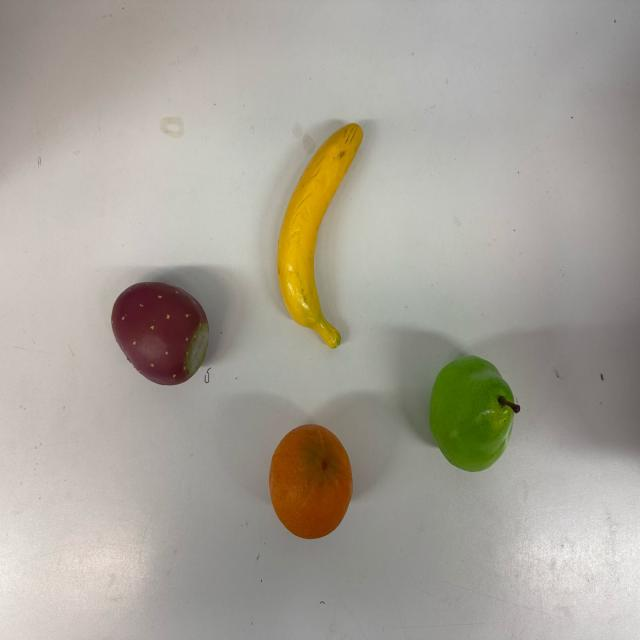banana: (276, 120, 363, 349)
orange: (267, 423, 355, 538)
pear: (428, 355, 522, 473)
tuna: (112, 280, 210, 385)
